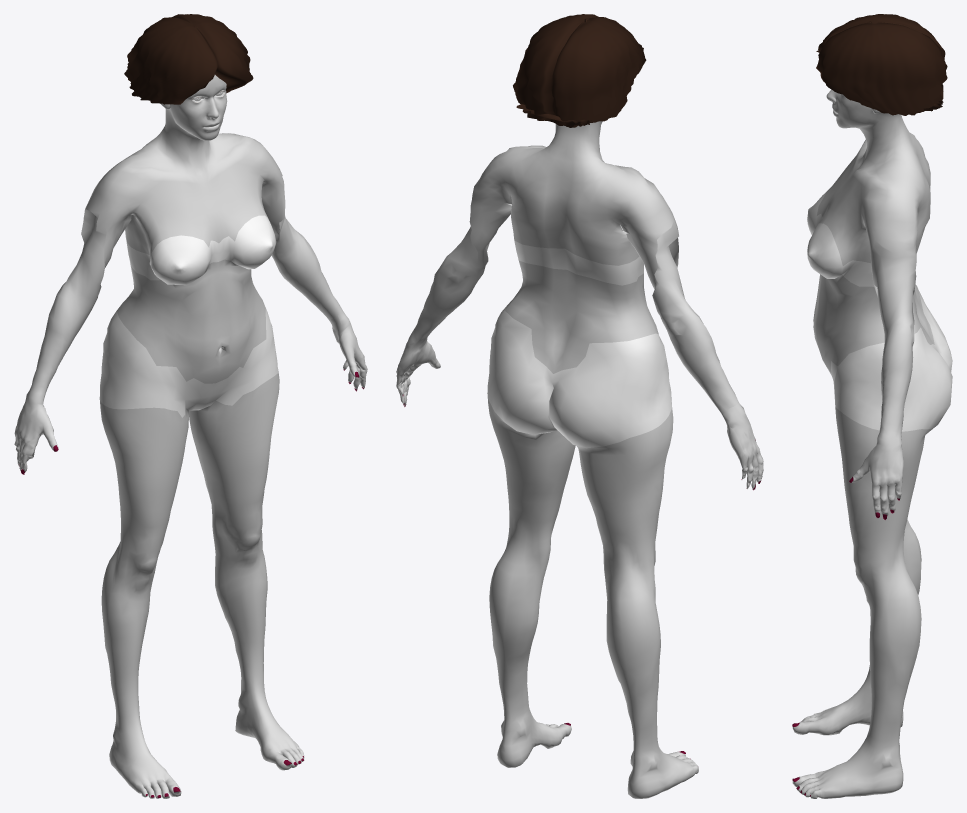
File: avatar_female.glb
The picture shows the model from 3 angles, left to right: view 1: azimuth 30°, elevation 25°; view 2: azimuth 150°, elevation 25°; view 3: azimuth 270°, elevation 25°; orthographic projection. The views are drawn at different scales.
Visible parts, largest first — view 1: f_ca01.001; view 2: f_ca01.001; view 3: f_ca01.001.
Boxes of the visible parts, x1,y1,x2,y2 form: f_ca01.001: (14,14,367,798); f_ca01.001: (396,14,763,798); f_ca01.001: (792,14,952,798).
Size of the model in its own units: 0.9182 by 1.85 by 0.3641.
11 materials, 1 textured.
